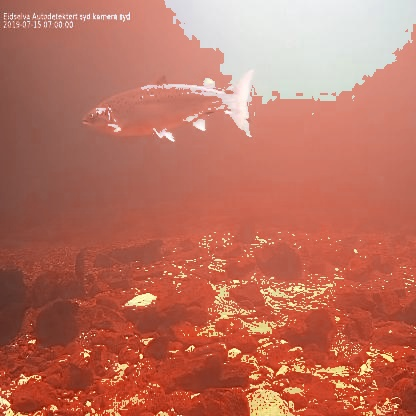salmon: (80, 63, 260, 143)
